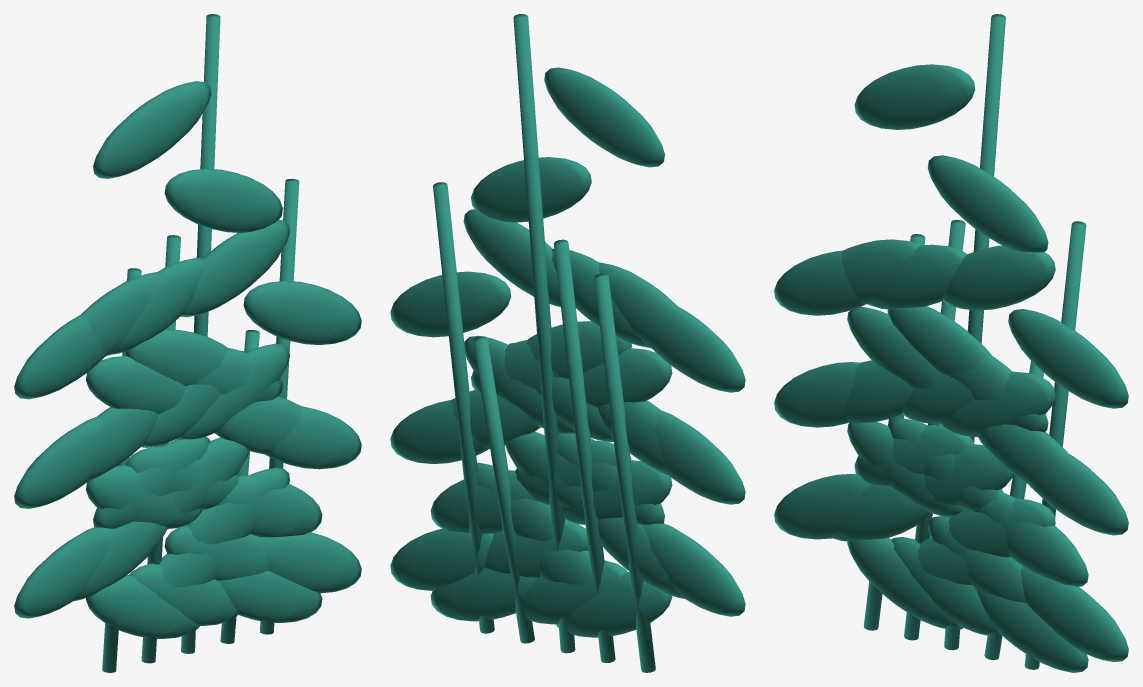
The model's file is kelp.glb.
3 renders of one model, left to right at view 1: azimuth 30°, elevation 25°; view 2: azimuth 150°, elevation 25°; view 3: azimuth 330°, elevation 25°, orthographic. The views are drawn at different scales.
Parts seen in each view (by area): view 1: kelp / Kelp | malachite; view 2: kelp / Kelp | malachite; view 3: kelp / Kelp | malachite.
Part boxes in pixels (x1,y1,x2,y2): kelp / Kelp | malachite: [14, 14, 361, 672]; kelp / Kelp | malachite: [390, 14, 745, 672]; kelp / Kelp | malachite: [774, 14, 1128, 672].
Size of the model in its own units: 1.94 by 3.31 by 0.1946.
